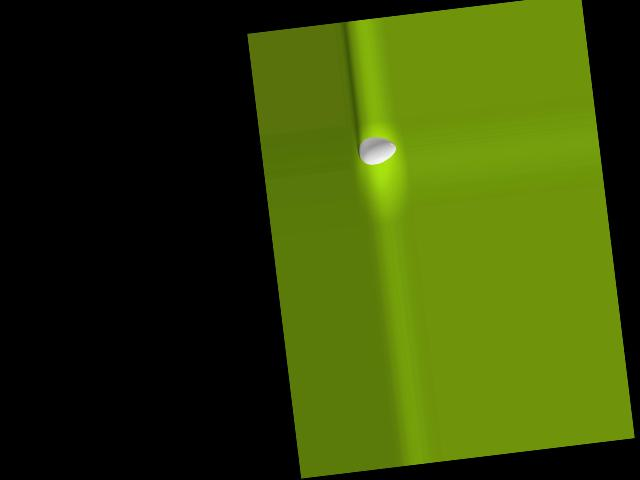egg: (357, 134, 398, 166)
